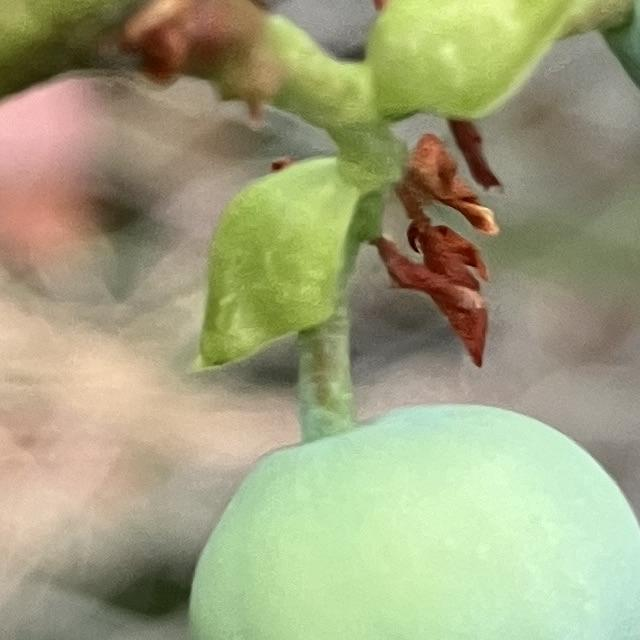Blueberries: (183, 397, 640, 640)
